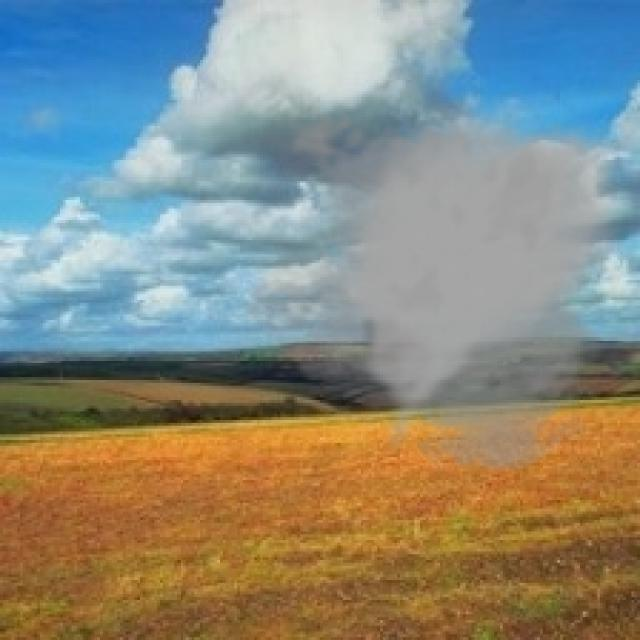smoke: (246, 103, 634, 477)
